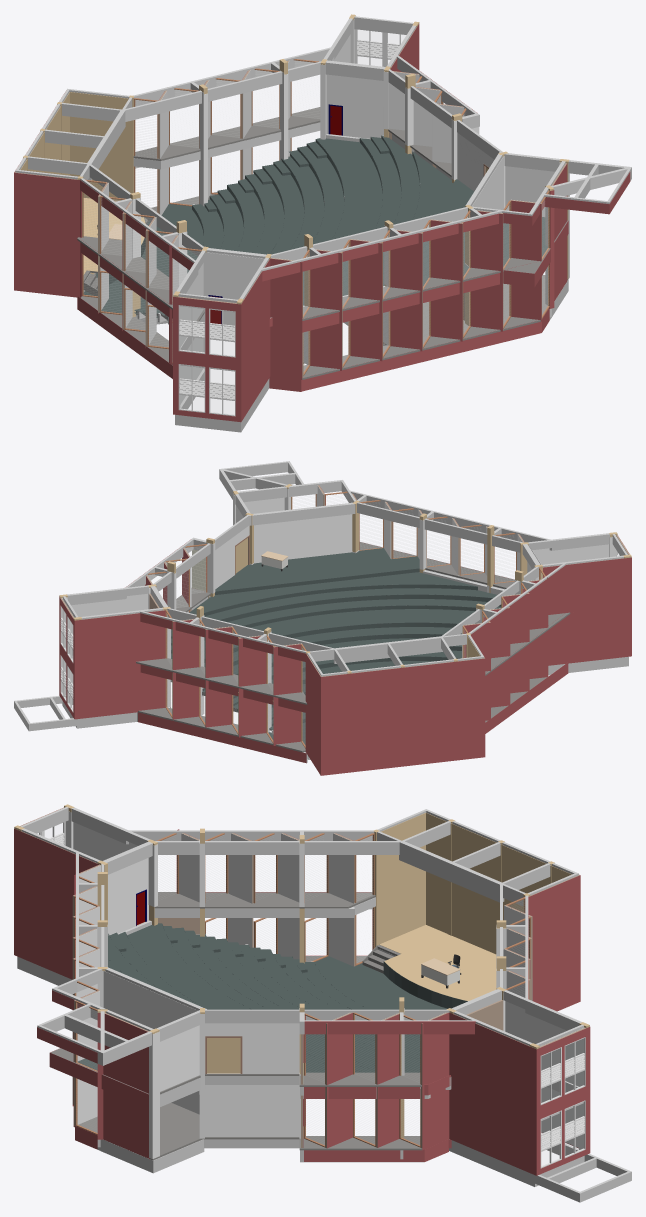
The picture shows the model from 3 angles, top to bottom: view 1: azimuth 30°, elevation 25°; view 2: azimuth 150°, elevation 25°; view 3: azimuth 270°, elevation 25°; orthographic projection. The views are drawn at different scales.
Parts seen in each view (by area): view 1: EN116M101; view 2: EN116M101; view 3: EN116M101.
Part boxes in pixels (box(x1,y1,x2,y2)): EN116M101: box(14, 14, 631, 432); EN116M101: box(14, 461, 631, 775); EN116M101: box(14, 804, 631, 1202).
Size of what is drawn, in the model's own units: 31 by 8.67 by 31.
